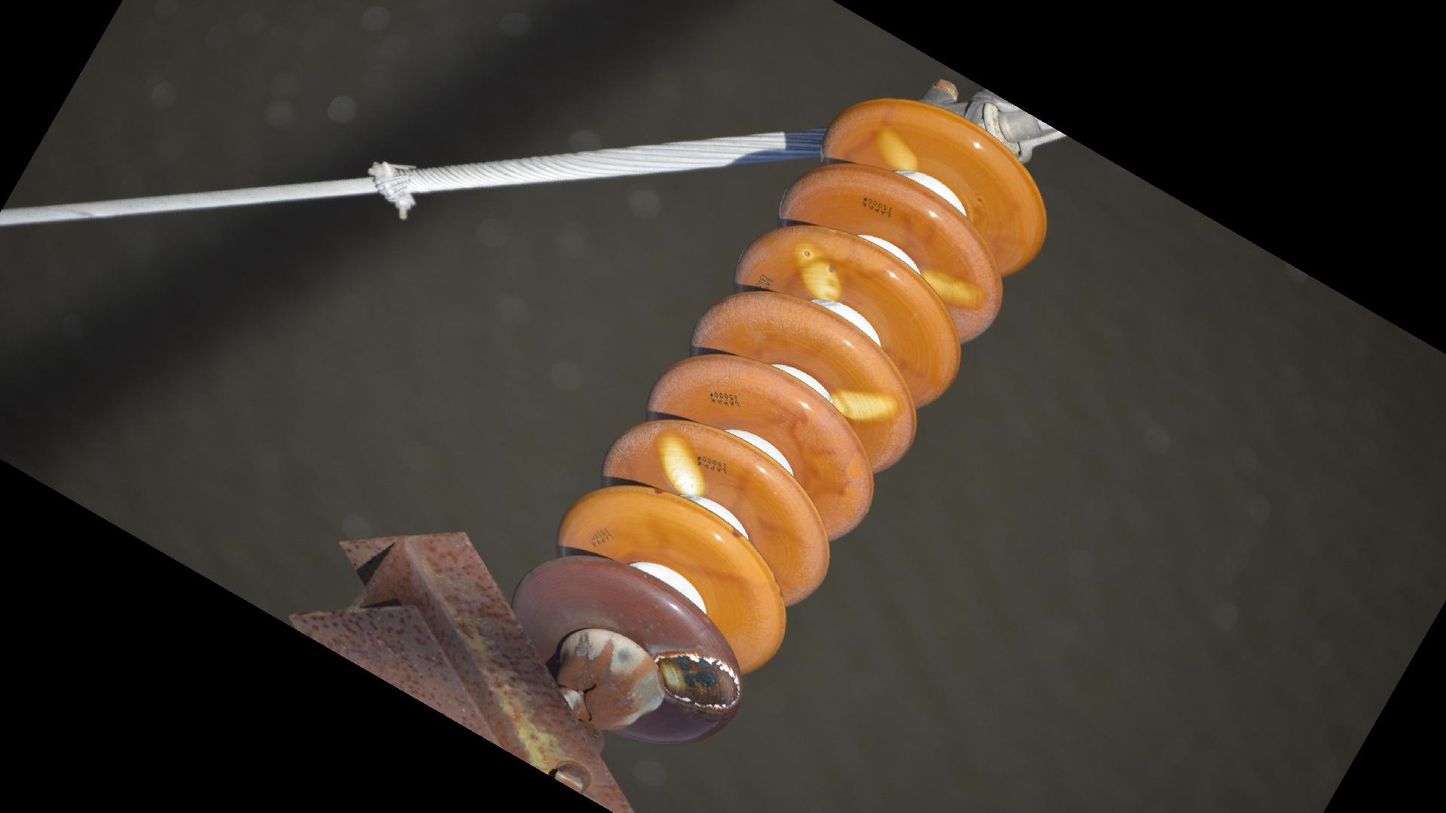insulator: (503, 93, 1054, 751)
insulator_flashover: (648, 646, 743, 717), (654, 429, 710, 501), (918, 264, 990, 313), (791, 240, 845, 303), (827, 388, 901, 425), (874, 123, 921, 173)
